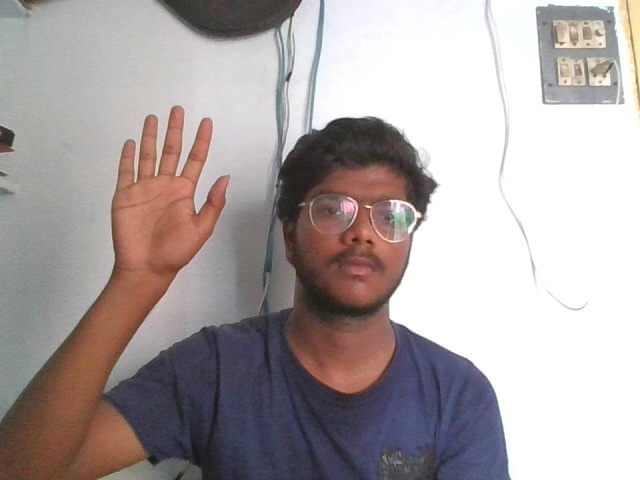Hello: (107, 99, 233, 274)
